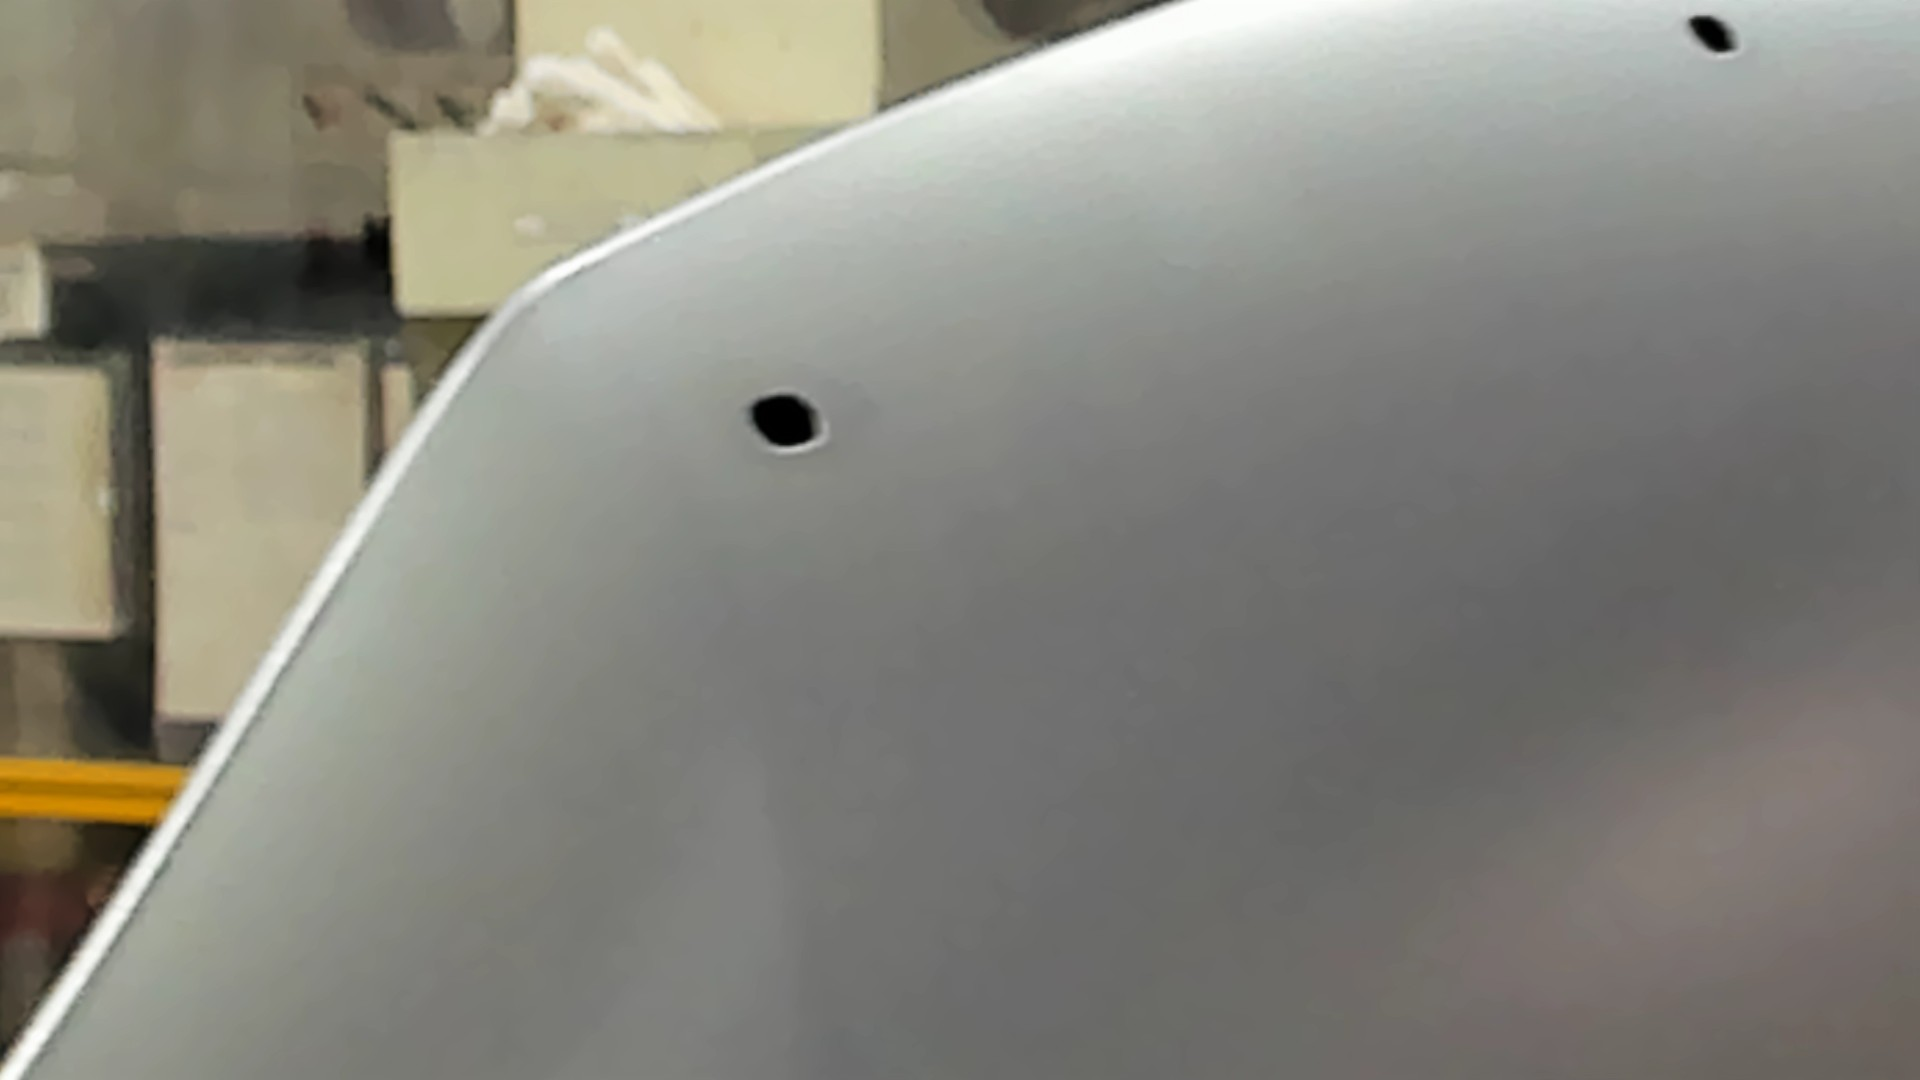amorfo: (733, 382, 843, 460), (1673, 11, 1750, 61)
capo: (939, 123, 1920, 1080)
